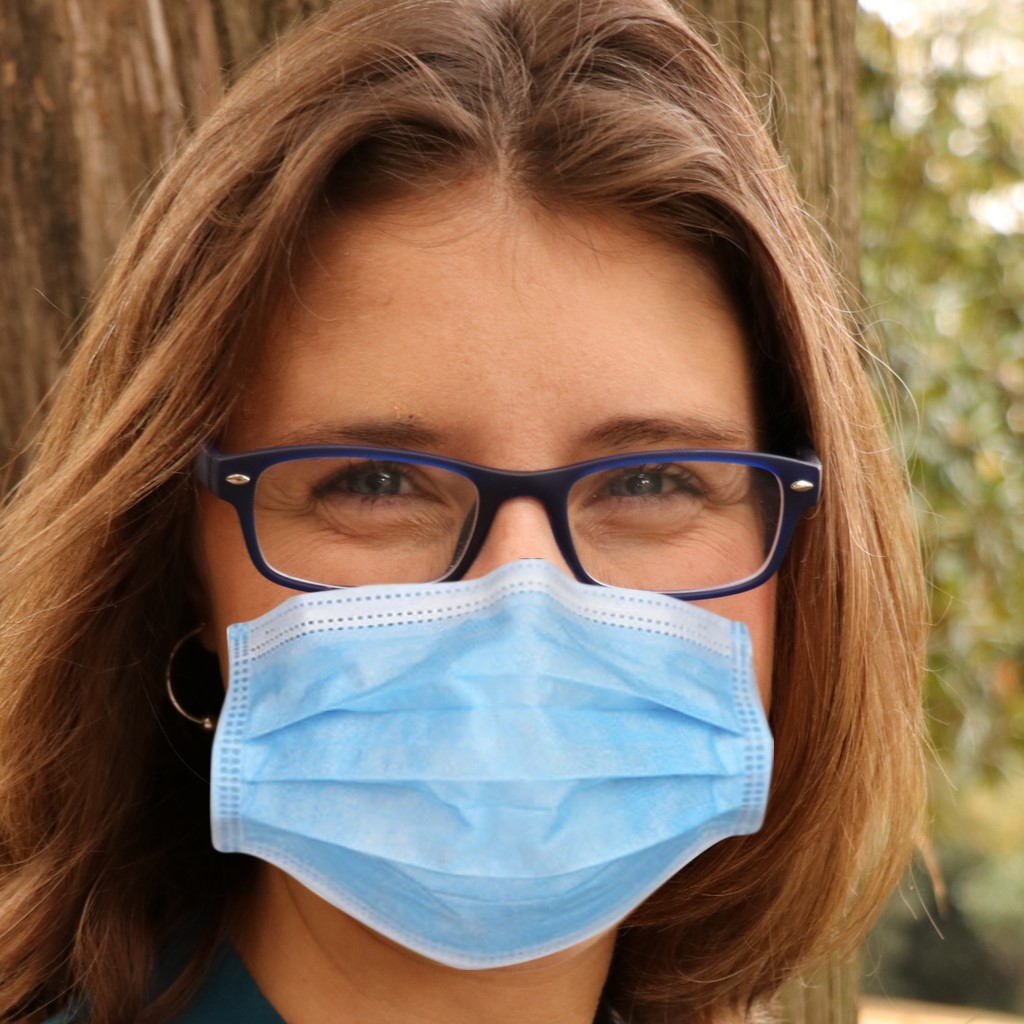con_mascara: (196, 144, 785, 950)
